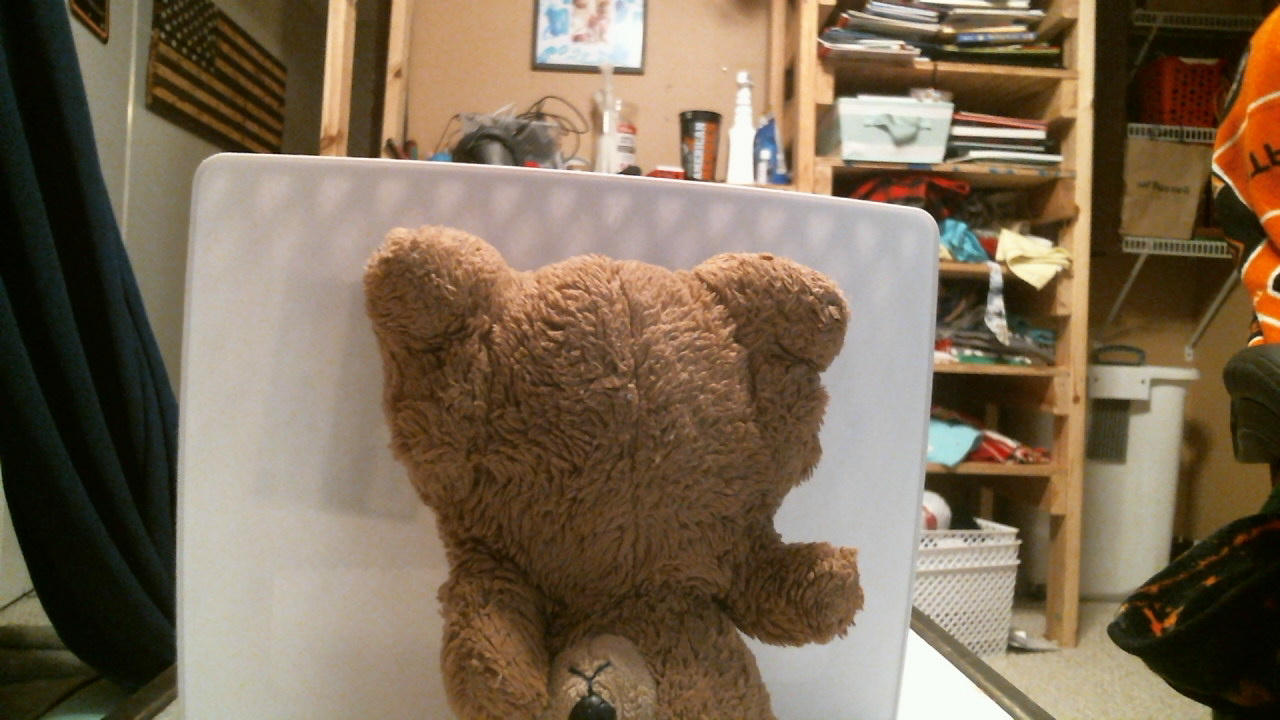Little_Mister_Bear: (561, 665, 671, 720)
